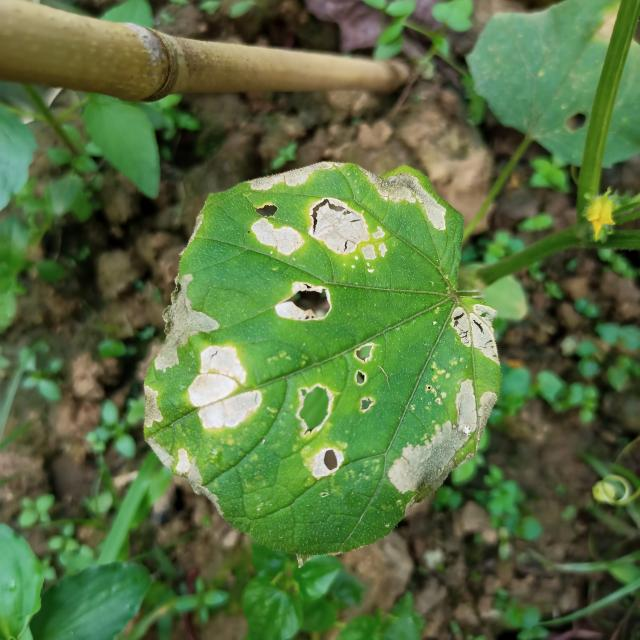disease_cucumber: (136, 268, 379, 502), (185, 157, 456, 270), (381, 296, 509, 510)
